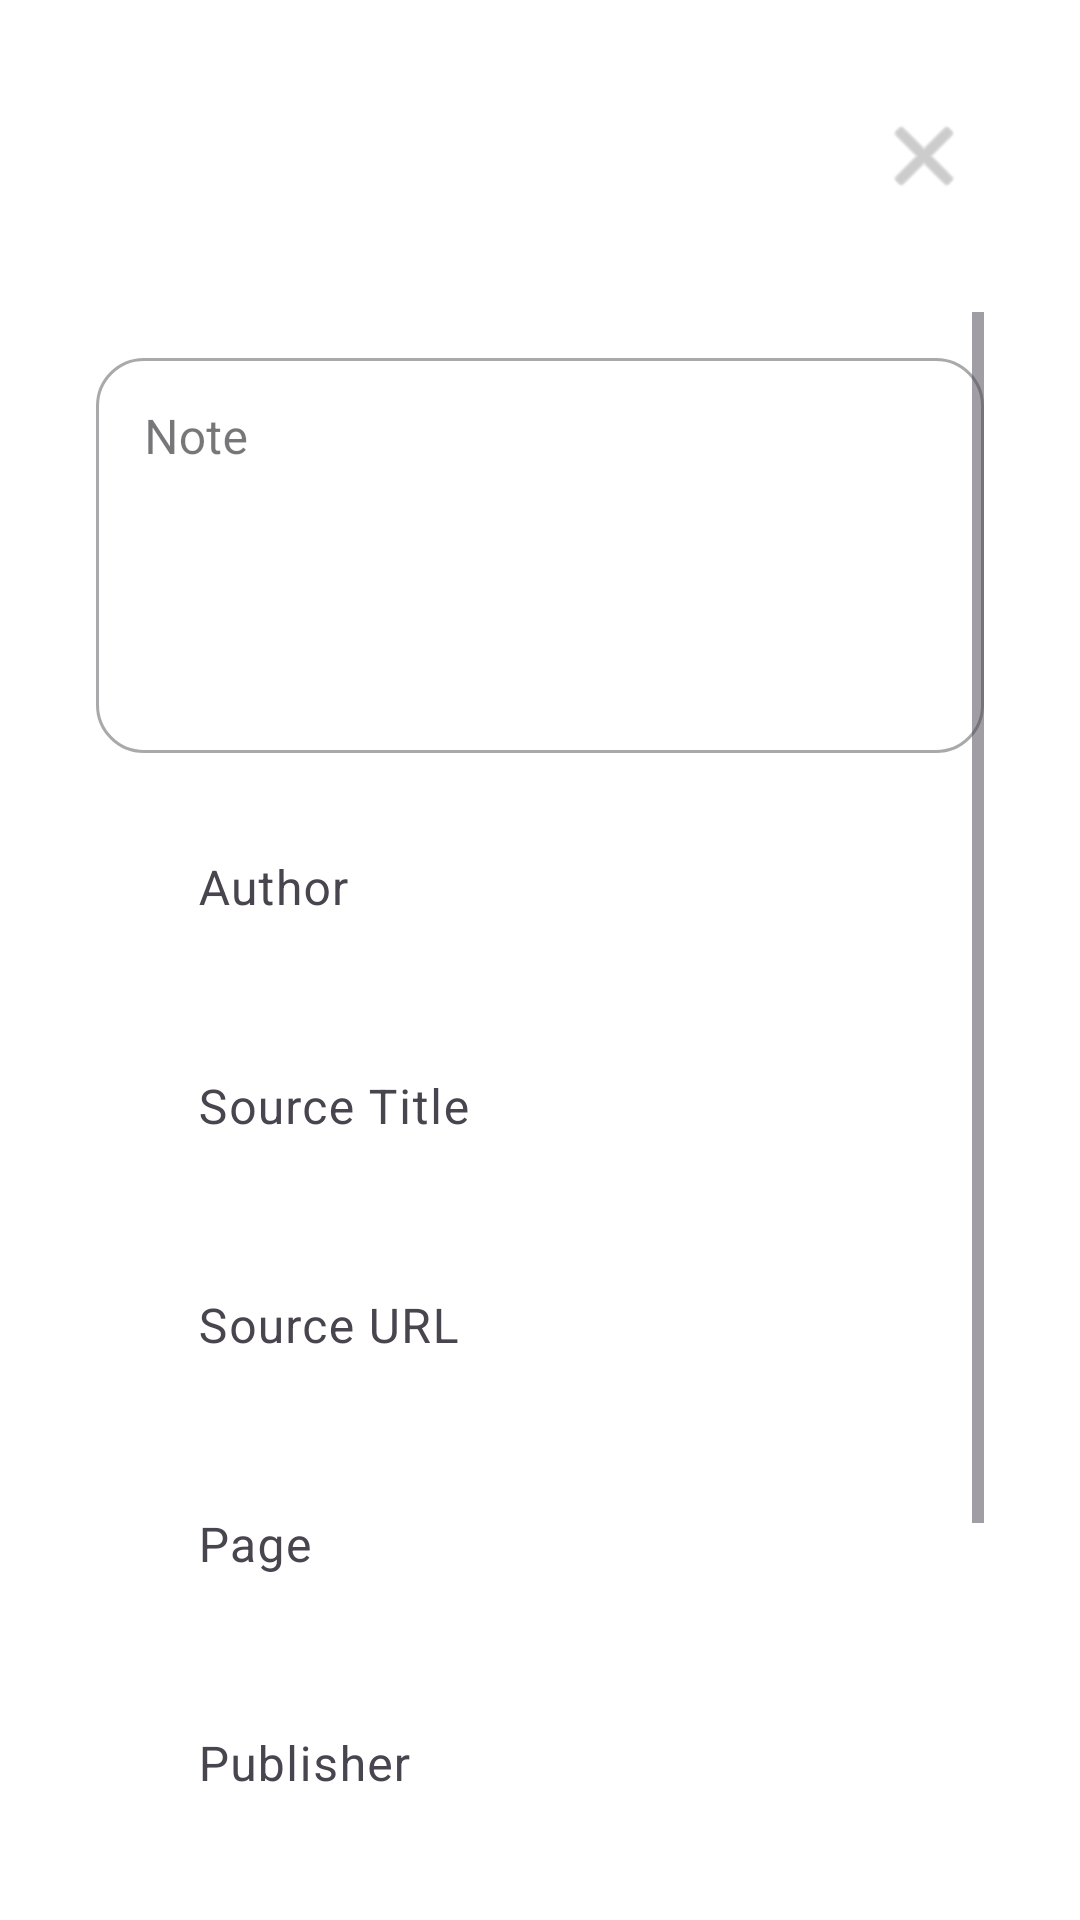

Locate icon controls on the screen. Image size 1080 × 1920, boxes as (x1, y1, x2, y2).
Close: (895, 127, 948, 180)
